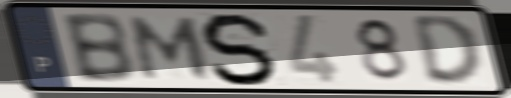4: (286, 12, 343, 89)
8: (352, 16, 411, 85)
B: (58, 11, 139, 85)
D: (408, 13, 486, 89)
M: (128, 15, 214, 83)
S: (198, 10, 282, 88)
